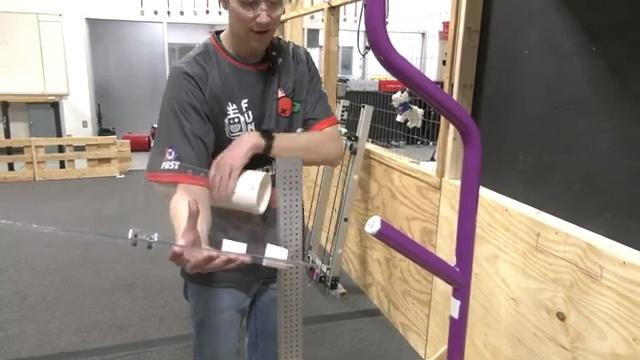CORAL: (208, 167, 272, 216)
